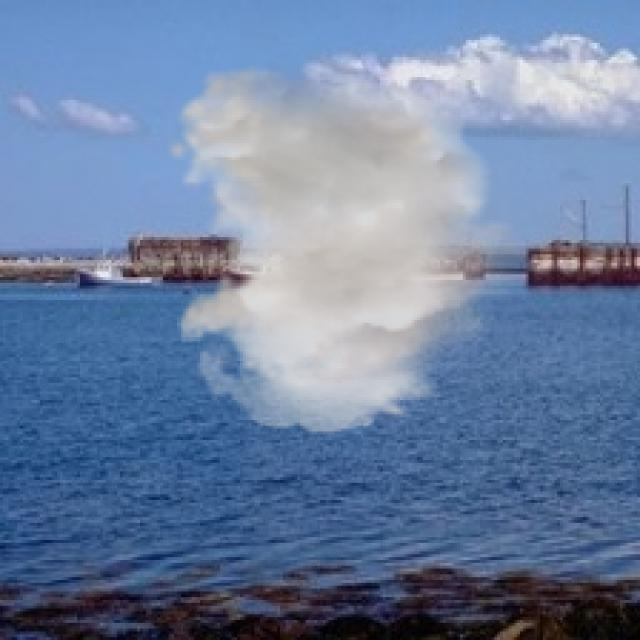Smoke: (165, 66, 540, 434)
